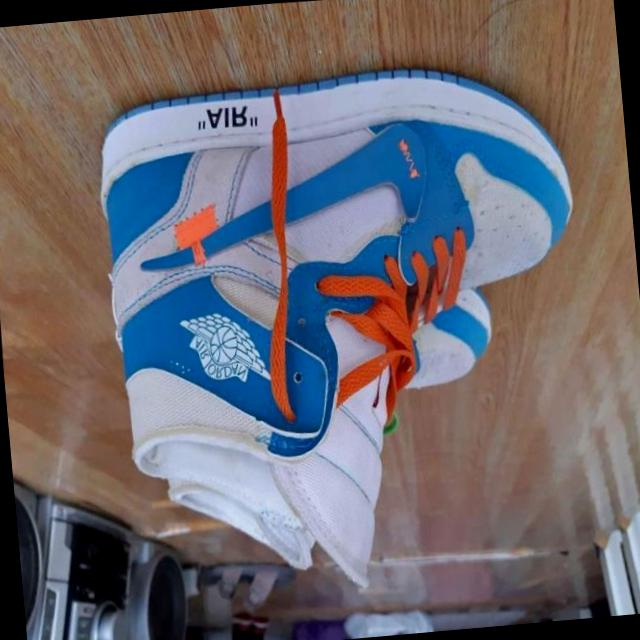nike_fake_jordan: (82, 46, 609, 614), (157, 274, 526, 582)
